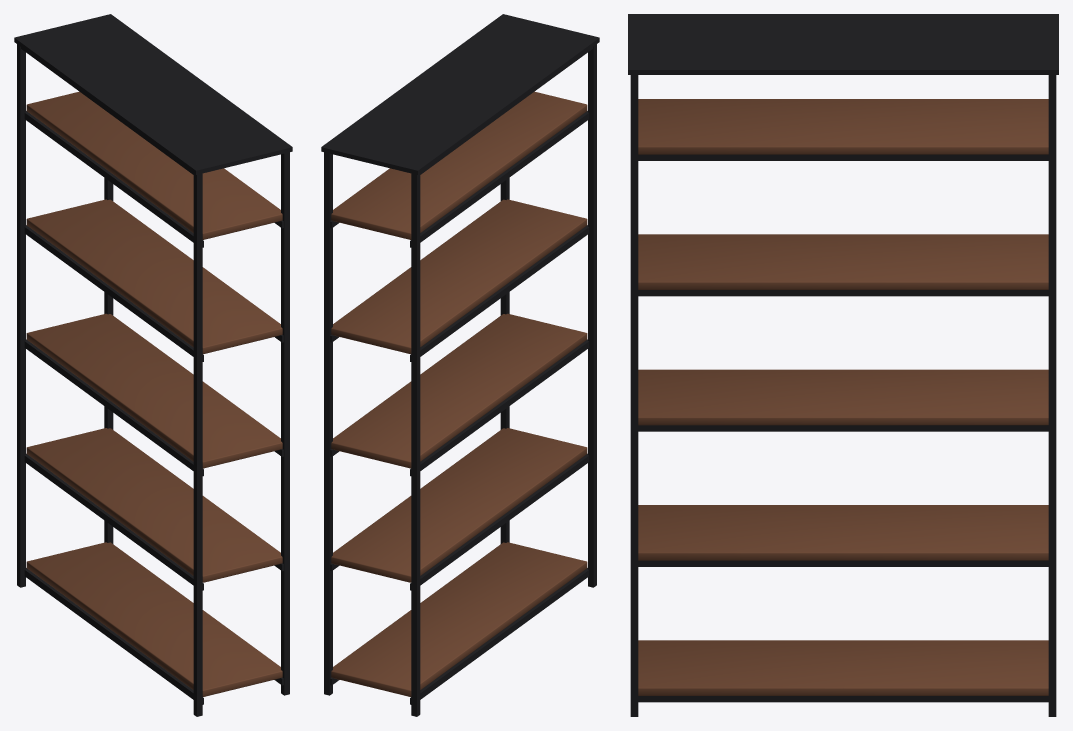
The model's file is shelf_unit.glb.
3 views of the same model, side by side, from view 1: azimuth 30°, elevation 25°; view 2: azimuth 150°, elevation 25°; view 3: azimuth 270°, elevation 25° (orthographic). The views are drawn at different scales.
Visible parts, largest first — view 1: Cap_LOD0, Shelf_LOD0.002, Shelf_LOD0.001, Shelf_LOD0, Shelf_LOD0.003, Shelf_LOD0.004, Post_LOD0, Post_LOD0.001, Post_LOD0.002, Rail_LOD0.006, Rail_LOD0.002, Rail_LOD0.008 (+3 smaller); view 2: Cap_LOD0, Shelf_LOD0.002, Shelf_LOD0.001, Shelf_LOD0, Shelf_LOD0.003, Shelf_LOD0.004, Post_LOD0.001, Post_LOD0, Post_LOD0.003, Rail_LOD0.006, Rail_LOD0.002, Rail_LOD0.008 (+3 smaller); view 3: Cap_LOD0, Shelf_LOD0.002, Shelf_LOD0, Shelf_LOD0.001, Shelf_LOD0.003, Shelf_LOD0.004, Post_LOD0.002, Post_LOD0.003, Rail_LOD0.001, Rail_LOD0.003, Rail_LOD0.005, Rail_LOD0.007 (+1 smaller).
Part boxes in pixels (box(x1,y1,x2,y2)): Cap_LOD0: box(14, 14, 292, 174); Shelf_LOD0.002: box(26, 313, 282, 468); Shelf_LOD0.001: box(26, 428, 282, 582); Shelf_LOD0: box(26, 542, 282, 696); Shelf_LOD0.003: box(26, 199, 282, 354); Shelf_LOD0.004: box(26, 91, 282, 239); Post_LOD0: box(193, 173, 202, 716); Post_LOD0.001: box(17, 44, 25, 587); Post_LOD0.002: box(281, 152, 289, 695); Rail_LOD0.006: box(24, 225, 203, 361); Rail_LOD0.002: box(24, 453, 203, 590); Rail_LOD0.008: box(24, 111, 203, 247); Cap_LOD0: box(321, 14, 599, 174); Shelf_LOD0.002: box(331, 313, 587, 468); Shelf_LOD0.001: box(331, 428, 587, 582); Shelf_LOD0: box(331, 542, 587, 696); Shelf_LOD0.003: box(331, 199, 587, 354); Shelf_LOD0.004: box(331, 91, 587, 239); Post_LOD0.001: box(411, 173, 420, 716); Post_LOD0: box(588, 44, 596, 587); Post_LOD0.003: box(324, 152, 332, 695); Rail_LOD0.006: box(410, 225, 589, 361); Rail_LOD0.002: box(410, 453, 589, 590); Rail_LOD0.008: box(410, 111, 589, 247); Cap_LOD0: box(628, 14, 1058, 74); Shelf_LOD0.002: box(638, 369, 1048, 425); Shelf_LOD0: box(638, 640, 1048, 695); Shelf_LOD0.001: box(638, 505, 1048, 560); Shelf_LOD0.003: box(638, 234, 1048, 289); Shelf_LOD0.004: box(638, 99, 1048, 154); Post_LOD0.002: box(630, 75, 638, 716); Post_LOD0.003: box(1048, 75, 1056, 716); Rail_LOD0.001: box(638, 696, 1048, 702); Rail_LOD0.003: box(638, 560, 1048, 566); Rail_LOD0.005: box(638, 425, 1048, 431); Rail_LOD0.007: box(638, 290, 1048, 296).
Bounding box in the file's own units: 0.372 × 2.01 × 1.21.
